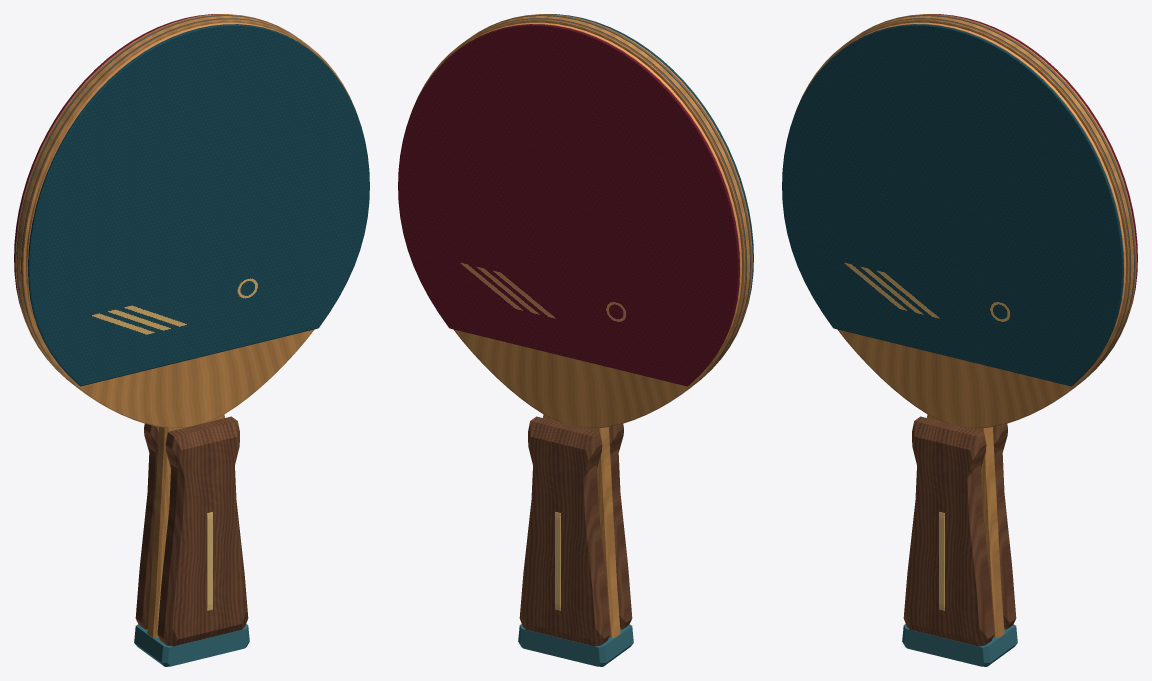
The model's file is rally-paddle.glb.
3 renders of one model, left to right at view 1: azimuth 30°, elevation 25°; view 2: azimuth 150°, elevation 25°; view 3: azimuth 330°, elevation 25°, orthographic.
Parts seen in each view (by area): view 1: Ink blue playing face, Front walnut handle scale, Front maple veneer, Maple handle tang, Handle butt cap, Back walnut handle scale, Core ply, Front amber sponge, Front walnut ply, Back walnut ply, Oxblood playing face, Back maple veneer (+3 smaller); view 2: Oxblood playing face, Back walnut handle scale, Back maple veneer, Maple handle tang, Handle butt cap, Front walnut handle scale, Core ply, Back amber sponge, Back walnut ply, Front walnut ply, Ink blue playing face, Front maple veneer (+3 smaller); view 3: Ink blue playing face, Front walnut handle scale, Front maple veneer, Maple handle tang, Handle butt cap, Back walnut handle scale, Core ply, Front amber sponge, Front walnut ply, Back walnut ply, Oxblood playing face, Back maple veneer (+3 smaller).
Boxes of the visible parts, x1=… form: Ink blue playing face: x1=28, y1=24, x2=369, y2=386; Front walnut handle scale: x1=157, y1=416, x2=248, y2=646; Front maple veneer: x1=22, y1=19, x2=355, y2=428; Maple handle tang: x1=147, y1=414, x2=224, y2=637; Handle butt cap: x1=134, y1=624, x2=249, y2=666; Back walnut handle scale: x1=135, y1=423, x2=158, y2=629; Core ply: x1=18, y1=16, x2=301, y2=390; Front amber sponge: x1=26, y1=22, x2=296, y2=384; Front walnut ply: x1=21, y1=18, x2=295, y2=384; Back walnut ply: x1=16, y1=14, x2=289, y2=380; Oxblood playing face: x1=14, y1=14, x2=224, y2=313; Back maple veneer: x1=15, y1=14, x2=288, y2=379; Oxblood playing face: x1=398, y1=24, x2=739, y2=386; Back walnut handle scale: x1=519, y1=416, x2=610, y2=646; Back maple veneer: x1=412, y1=19, x2=745, y2=428; Maple handle tang: x1=543, y1=414, x2=620, y2=637; Handle butt cap: x1=518, y1=624, x2=633, y2=666; Front walnut handle scale: x1=609, y1=423, x2=632, y2=629; Core ply: x1=466, y1=16, x2=749, y2=390; Back amber sponge: x1=471, y1=22, x2=741, y2=384; Back walnut ply: x1=472, y1=18, x2=746, y2=384; Front walnut ply: x1=478, y1=14, x2=751, y2=380; Ink blue playing face: x1=543, y1=14, x2=753, y2=313; Front maple veneer: x1=479, y1=14, x2=752, y2=379; Ink blue playing face: x1=782, y1=24, x2=1123, y2=386; Front walnut handle scale: x1=903, y1=416, x2=994, y2=646; Front maple veneer: x1=796, y1=19, x2=1129, y2=428; Maple handle tang: x1=927, y1=414, x2=1004, y2=637; Handle butt cap: x1=902, y1=624, x2=1017, y2=666; Back walnut handle scale: x1=993, y1=423, x2=1016, y2=629; Core ply: x1=850, y1=16, x2=1133, y2=390; Front amber sponge: x1=855, y1=22, x2=1125, y2=384; Front walnut ply: x1=856, y1=18, x2=1130, y2=384; Back walnut ply: x1=862, y1=14, x2=1135, y2=380; Oxblood playing face: x1=927, y1=14, x2=1137, y2=313; Back maple veneer: x1=863, y1=14, x2=1136, y2=379.
Bounding box in the file's own units: 0.152 × 0.263 × 0.028.
Materials: 9 (4 with a texture image).
